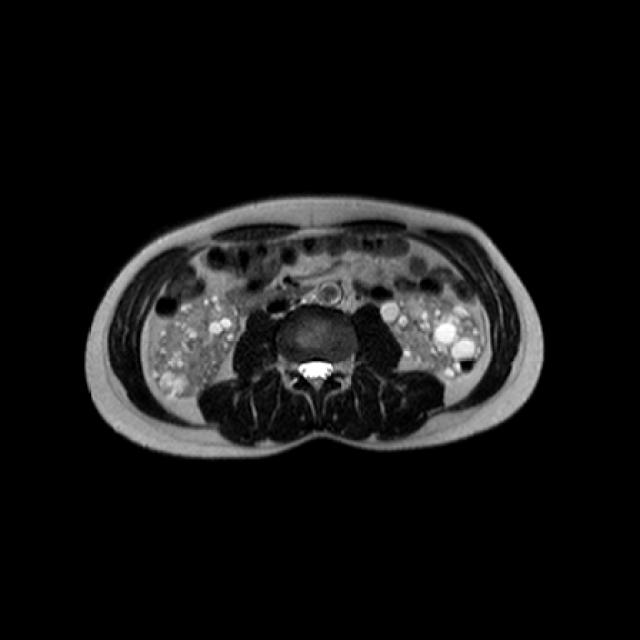sag: (150, 290, 241, 401)
sol: (378, 293, 484, 377)
